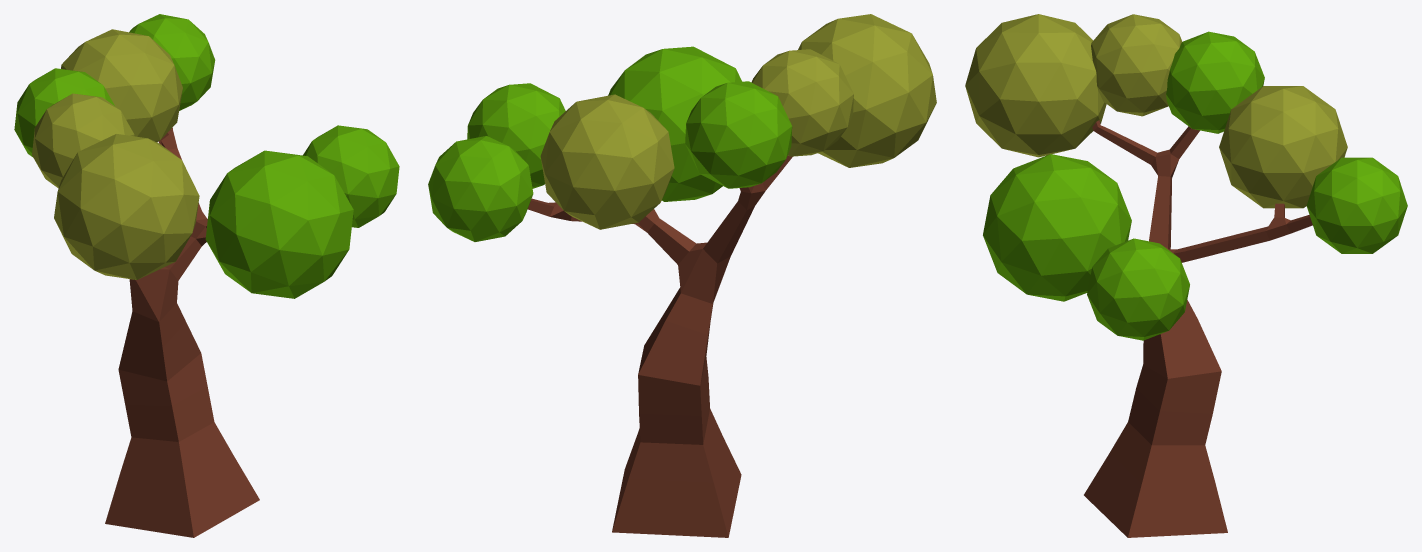
File: Tree_Icosphere_01.fbx
The picture shows the model from 3 angles, left to right: view 1: azimuth 30°, elevation 25°; view 2: azimuth 150°, elevation 25°; view 3: azimuth 270°, elevation 25°; orthographic projection. The views are drawn at different scales.
Visible parts, largest first — view 1: Cube, Icosphere.006, Icosphere.002, Icosphere.001, Icosphere.005, Icosphere.004, Icosphere, Icosphere.003; view 2: Cube, Icosphere.001, Icosphere.002, Icosphere.003, Icosphere, Icosphere.006, Icosphere.004, Icosphere.005; view 3: Cube, Icosphere.006, Icosphere.002, Icosphere.001, Icosphere.005, Icosphere, Icosphere.003, Icosphere.004.
Boxes of the visible parts, box(x1,y1,x2,y2) form: Cube: box(105, 127, 259, 537); Icosphere.006: box(205, 150, 353, 298); Icosphere.002: box(54, 134, 199, 279); Icosphere.001: box(61, 29, 182, 142); Icosphere.005: box(303, 125, 399, 227); Icosphere.004: box(32, 93, 134, 188); Icosphere: box(129, 14, 215, 110); Icosphere.003: box(14, 68, 114, 156); Cube: box(528, 155, 792, 537); Icosphere.001: box(540, 94, 674, 229); Icosphere.002: box(798, 14, 936, 167); Icosphere.003: box(685, 81, 792, 188); Icosphere: box(428, 136, 533, 241); Icosphere.006: box(608, 46, 741, 201); Icosphere.004: box(751, 49, 853, 156); Icosphere.005: box(467, 83, 565, 188); Cube: box(1084, 120, 1312, 537); Icosphere.006: box(983, 154, 1131, 301); Icosphere.002: box(965, 14, 1106, 157); Icosphere.001: box(1219, 86, 1347, 208); Icosphere.005: box(1087, 238, 1189, 340); Icosphere: box(1306, 157, 1407, 253); Icosphere.003: box(1166, 31, 1264, 133); Icosphere.004: box(1091, 14, 1182, 116).
Bounding box in the file's own units: 231 × 264 × 236.
